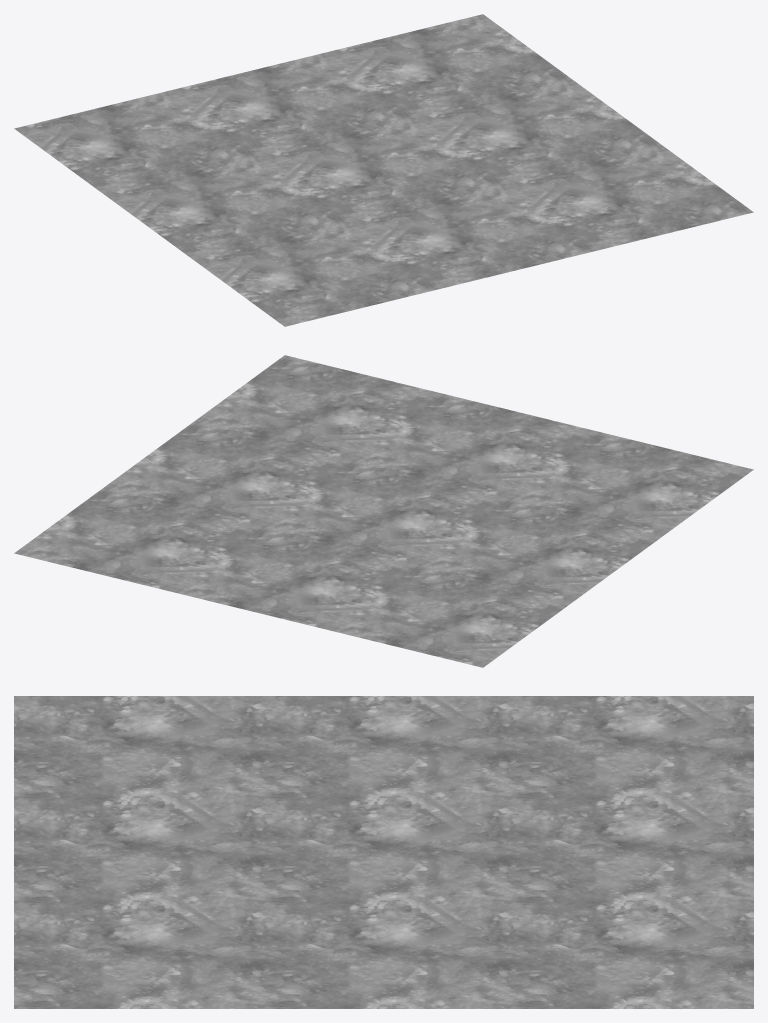
Rendered from SM_Floor_12x12_01a.fbx.
3 renders of one model, top to bottom at view 1: azimuth 30°, elevation 25°; view 2: azimuth 150°, elevation 25°; view 3: azimuth 270°, elevation 25°, orthographic. The views are drawn at different scales.
Parts seen in each view (by area): view 1: SM_Floor_12x12_01a_LOD0; view 2: SM_Floor_12x12_01a_LOD0; view 3: SM_Floor_12x12_01a_LOD0.
Boxes of the visible parts, left/top/right/bottom form: SM_Floor_12x12_01a_LOD0: left=14, top=14, right=753, bottom=326; SM_Floor_12x12_01a_LOD0: left=14, top=355, right=753, bottom=667; SM_Floor_12x12_01a_LOD0: left=14, top=696, right=753, bottom=1008.
Bounding box in the file's own units: 1200 × 1200 × 1.45e-05.
